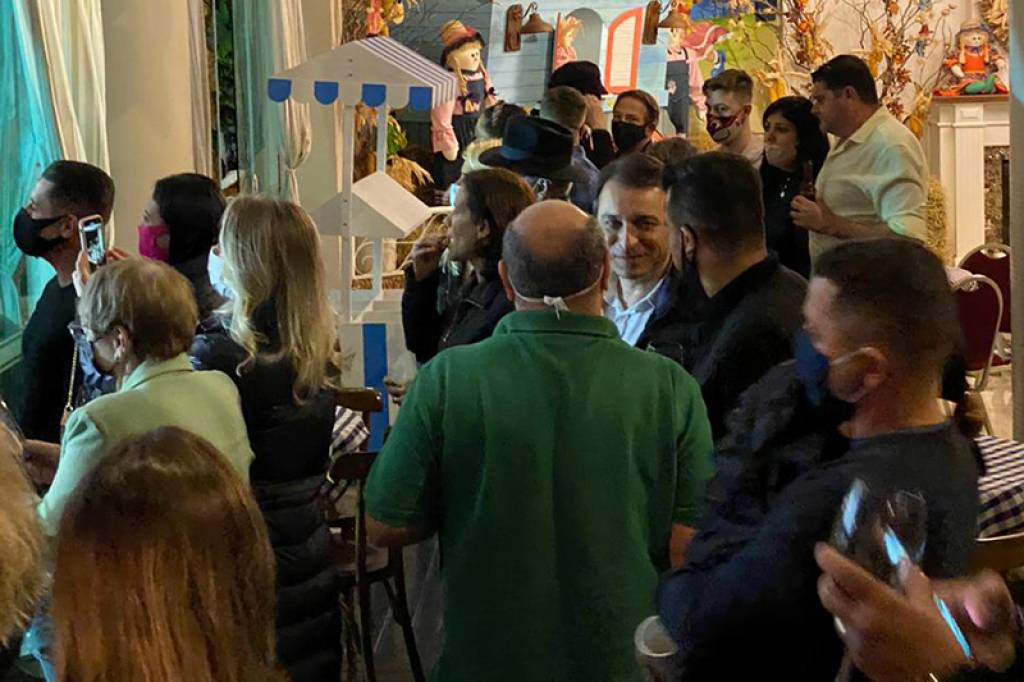mask_weared_incorrect: (760, 114, 802, 166)
with_mask: (608, 92, 653, 151), (706, 84, 749, 144)
without_mask: (589, 189, 678, 280), (432, 186, 491, 265)
